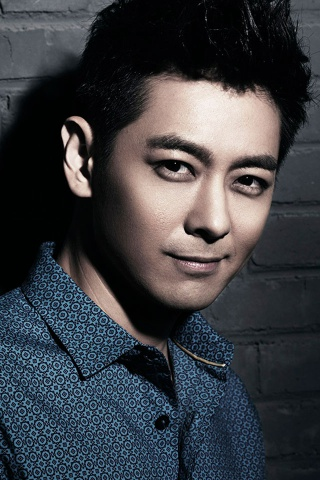male: (55, 15, 282, 326)
